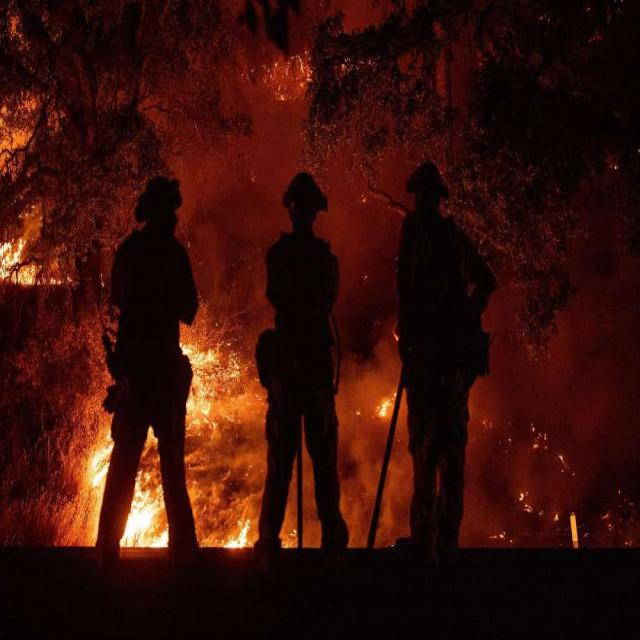Fire: (72, 412, 114, 545), (120, 471, 168, 548), (0, 242, 45, 295)
